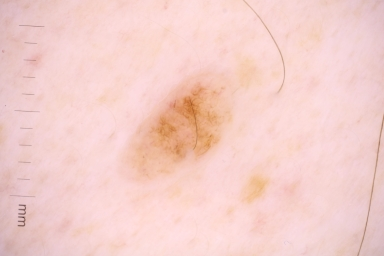melanoma: (120, 75, 234, 175)
